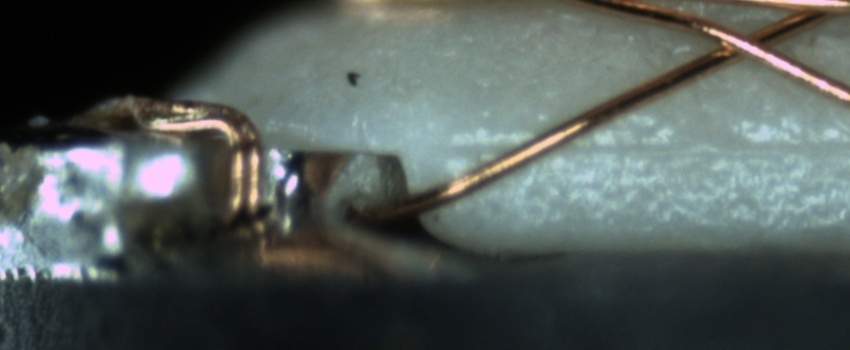CL: (700, 16, 796, 69)
DL: (452, 114, 849, 179)
TE: (86, 99, 272, 220)
